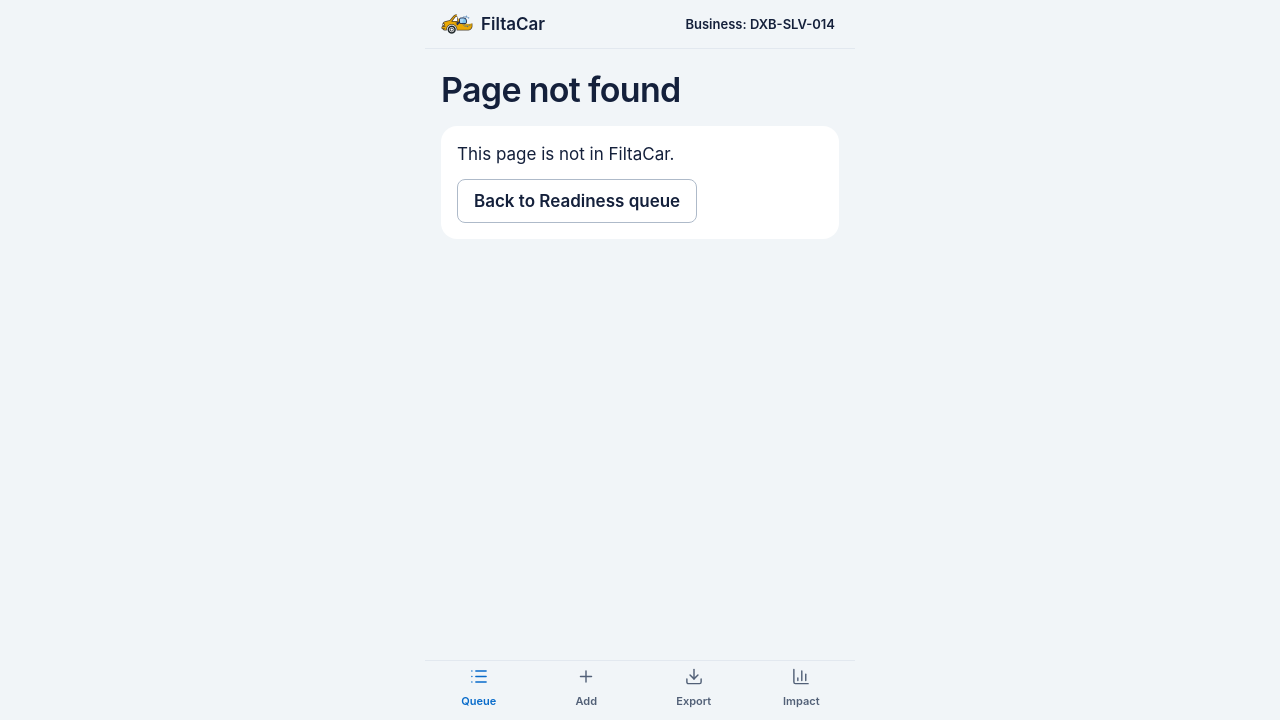
Test case: keeps the app unframed for false wide and ""
expect the heading "Page not found" is shown: met, box [441,69,681,110]
What coordinates should you click on to do the following:
click the button with aria-label "Who is selling"
I would click on:
 (760, 24)
Its box is [682,2,839,46].
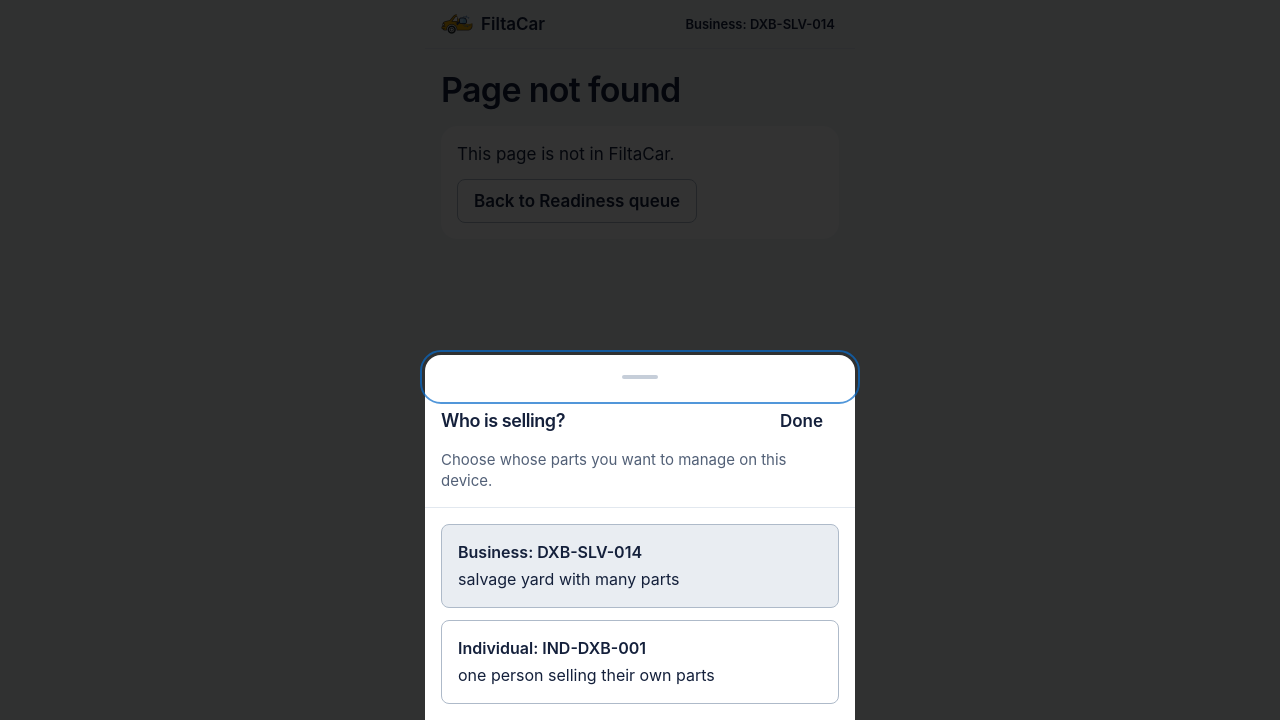
expect the dialog "Who is selling?" is shown: met, box [425,355,855,719]
